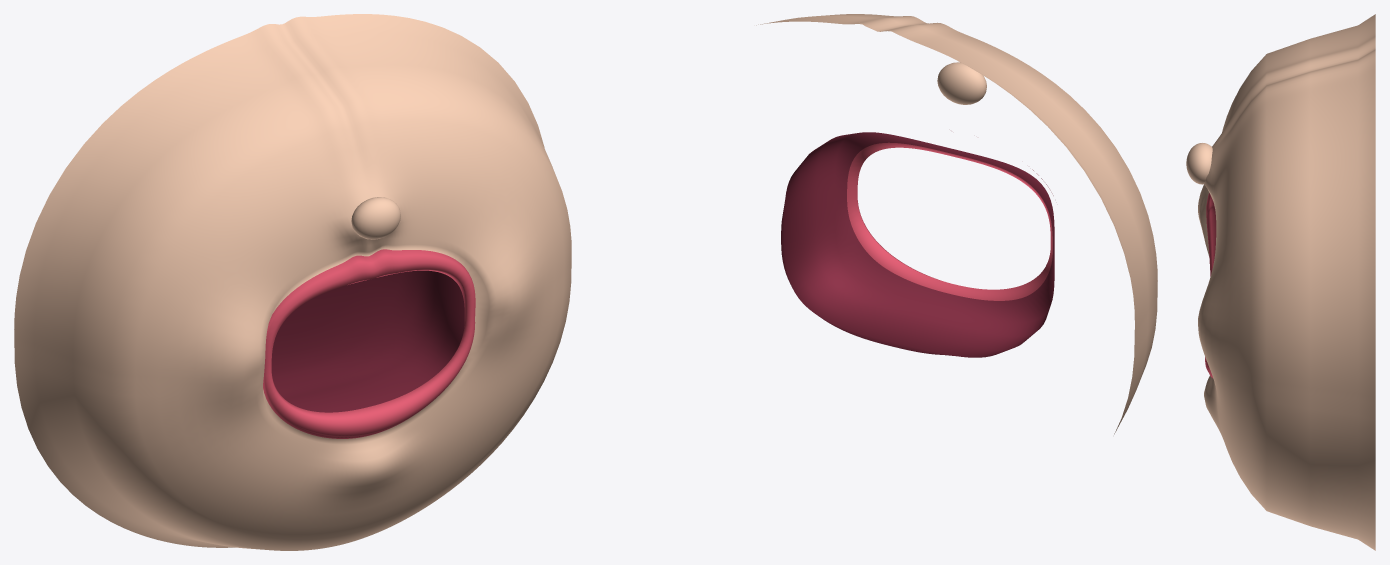
File: mouth_frame.glb
3 renders of one model, left to right at view 1: azimuth 30°, elevation 25°; view 2: azimuth 150°, elevation 25°; view 3: azimuth 270°, elevation 25°, orthographic. The views are drawn at different scales.
Visible parts, largest first — view 1: mouth_frame; view 2: mouth_frame; view 3: mouth_frame.
Boxes of the visible parts, <box> form: mouth_frame: <box>14,14,571,550</box>; mouth_frame: <box>756,14,1157,434</box>; mouth_frame: <box>1186,14,1375,550</box>.
Bounding box in the file's own units: 29.96 × 27.77 × 9.96.
